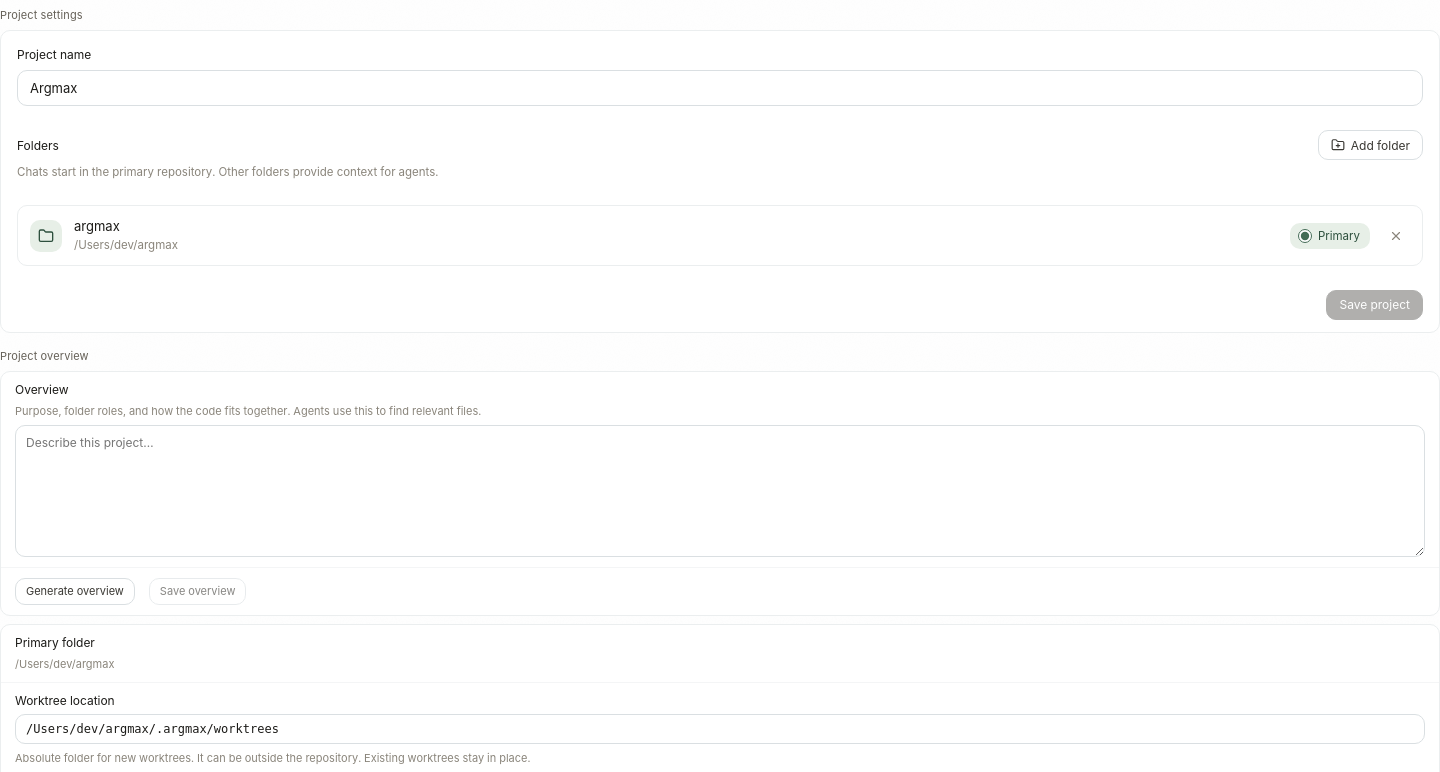
it: ProjectsSettings › keeps the saved confirmation after the saved project and folders reload
The width and height of the screenshot is (1440, 772).
Replace the text in the field labelled "Project name" with "Agent tools" at (720, 88), box [17, 70, 1423, 106]
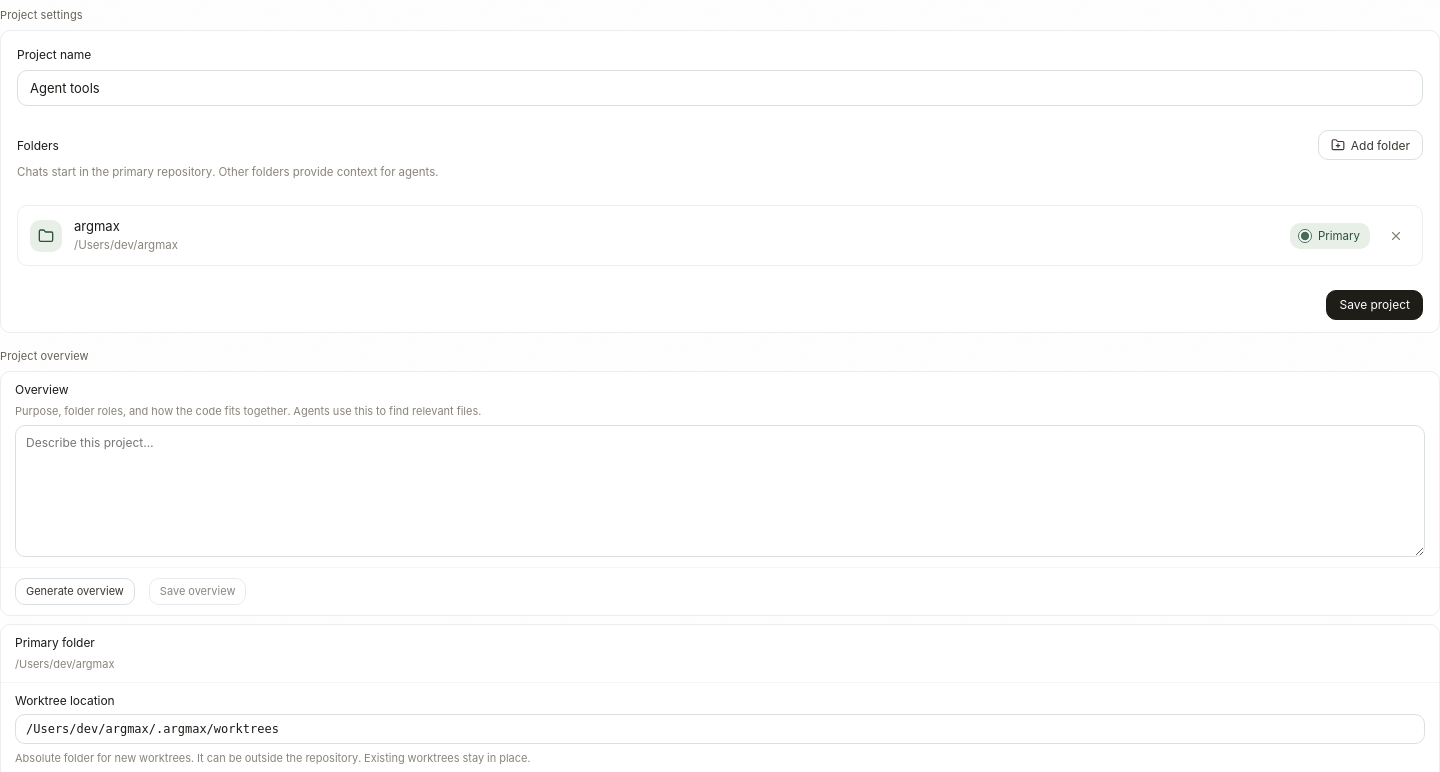
Click the button "Add folder" at (1370, 145), box [1318, 130, 1423, 160]
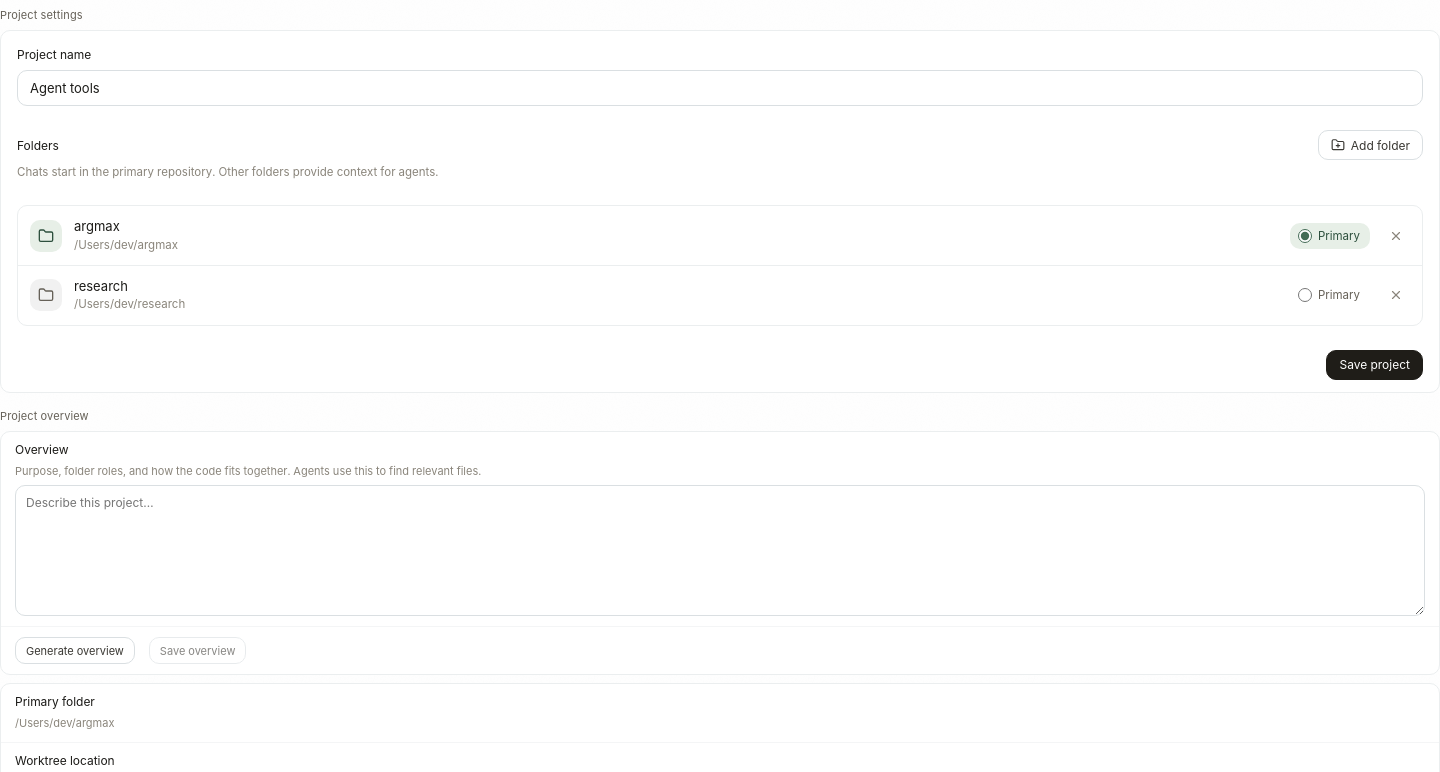
expect the text "research" is shown: met, box [74, 278, 128, 294]
Click the button "Save project" at (1375, 364), box [1326, 350, 1423, 380]
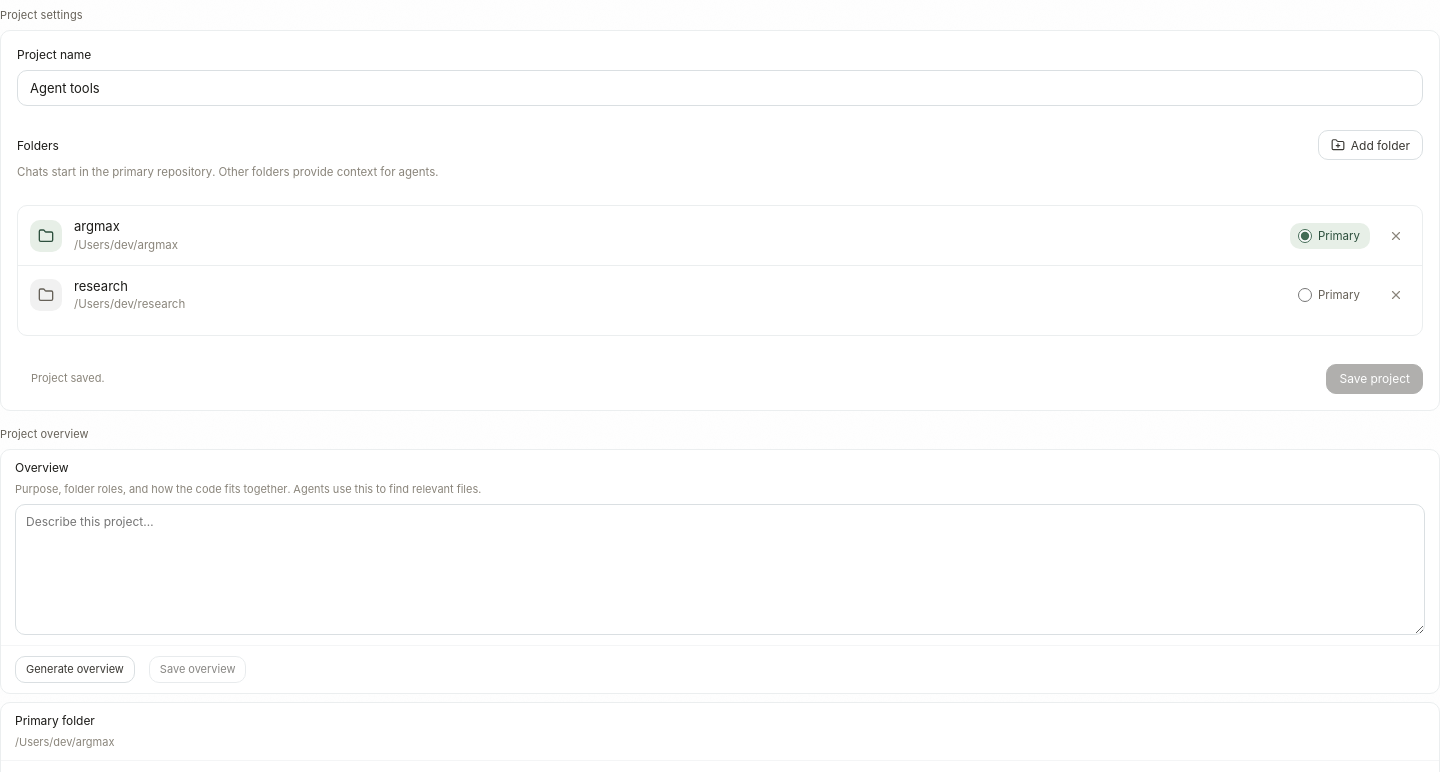
expect the text "Project saved." is shown: met, box [31, 370, 104, 384]
expect the button "Save project" is disabled: met, box [1326, 364, 1423, 394]
